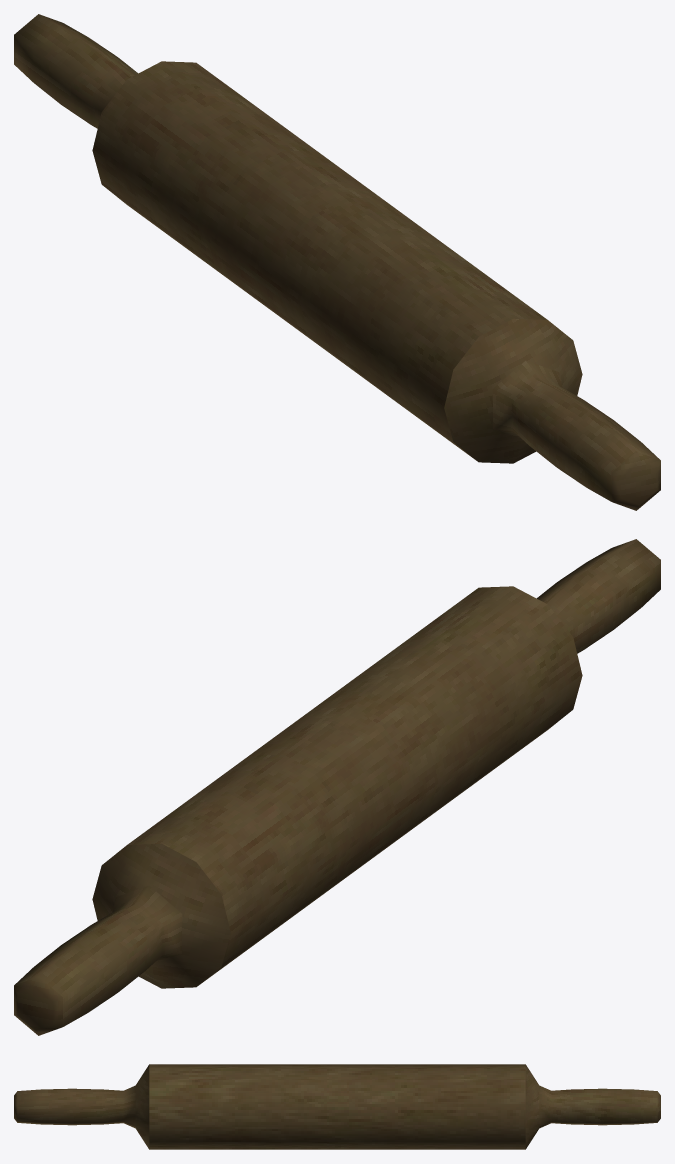
The model's file is rolling_pin_mx_1.glb.
3 views of the same model, one above another, from view 1: azimuth 30°, elevation 25°; view 2: azimuth 150°, elevation 25°; view 3: azimuth 270°, elevation 25° (orthographic). The views are drawn at different scales.
Parts seen in each view (by area): view 1: rolling_pin_mx_1; view 2: rolling_pin_mx_1; view 3: rolling_pin_mx_1.
Part boxes in pixels (left/top/right/bottom): rolling_pin_mx_1: left=14, top=14, right=660, bottom=510; rolling_pin_mx_1: left=14, top=539, right=660, bottom=1035; rolling_pin_mx_1: left=14, top=1064, right=660, bottom=1149.
Bounding box in the file's own units: 0.1 × 0.1 × 0.756.
1 material, 1 textured.
